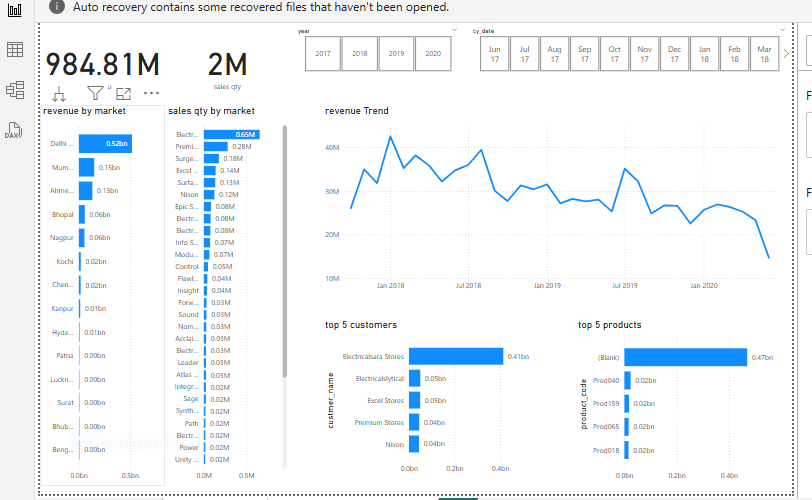

The page's visual inventory and layout, read from the dashboard file:
{"tool":"powerbi","page":{"name":"key insights","canvas":[1280,850],"ordinal":0},"visuals":[{"type":"card","fields":{"Values":["base measures.revenue"]},"box":[0,51,212.5,137.7],"z":0},{"type":"card","fields":{"Values":["base measures.sales qty"]},"box":[212.5,51,212.5,137.7],"z":1000},{"type":"barChart","title":"revenue by market","fields":{"Y":["base measures.revenue"],"Category":["sales markets.markets_name","sales customers.custmer_name"]},"box":[0,188.7,212.5,647.7],"z":2000},{"type":"barChart","title":"sales qty by market","fields":{"Y":["base measures.sales qty"],"Category":["sales customers.custmer_name"]},"box":[212.5,188.7,212.5,647.7],"z":3000},{"type":"slicer","fields":{"Values":["sales date.year"]},"box":[425,51,297.5,86.7],"z":4000},{"type":"slicer","fields":{"Values":["sales date.cy_date"]},"box":[722.5,51,557.6,86.7],"z":5000},{"type":"barChart","title":"top 5 customers","fields":{"Y":["base measures.revenue"],"Category":["sales customers.custmer_name"]},"box":[479.4,552.5,377.4,272],"z":6000},{"type":"barChart","title":"top 5 products","fields":{"Y":["base measures.revenue"],"Category":["sales products.product_code"]},"box":[909.5,552.5,358.7,283.9],"z":7000},{"type":"lineChart","title":"revenue Trend","fields":{"Y":["base measures.revenue"],"Category":["sales date.cy_date"]},"box":[479.4,188.7,788.8,324.7],"z":8000}]}

Visuals, with their boxes on the page's 1280x850 design canvas (x1, y1, x2, y2). These are canvas units, not pixel positions in the 812x500 screenshot, which may show the page scaled, cropped or inside an application window:
card - base measures.revenue: rect(0, 51, 212, 189)
card - base measures.sales qty: rect(212, 51, 425, 189)
"revenue by market" barChart: rect(0, 189, 212, 836)
"sales qty by market" barChart: rect(212, 189, 425, 836)
slicer - sales date.year: rect(425, 51, 722, 138)
slicer - sales date.cy_date: rect(722, 51, 1280, 138)
"top 5 customers" barChart: rect(479, 552, 857, 824)
"top 5 products" barChart: rect(910, 552, 1268, 836)
"revenue Trend" lineChart: rect(479, 189, 1268, 513)
